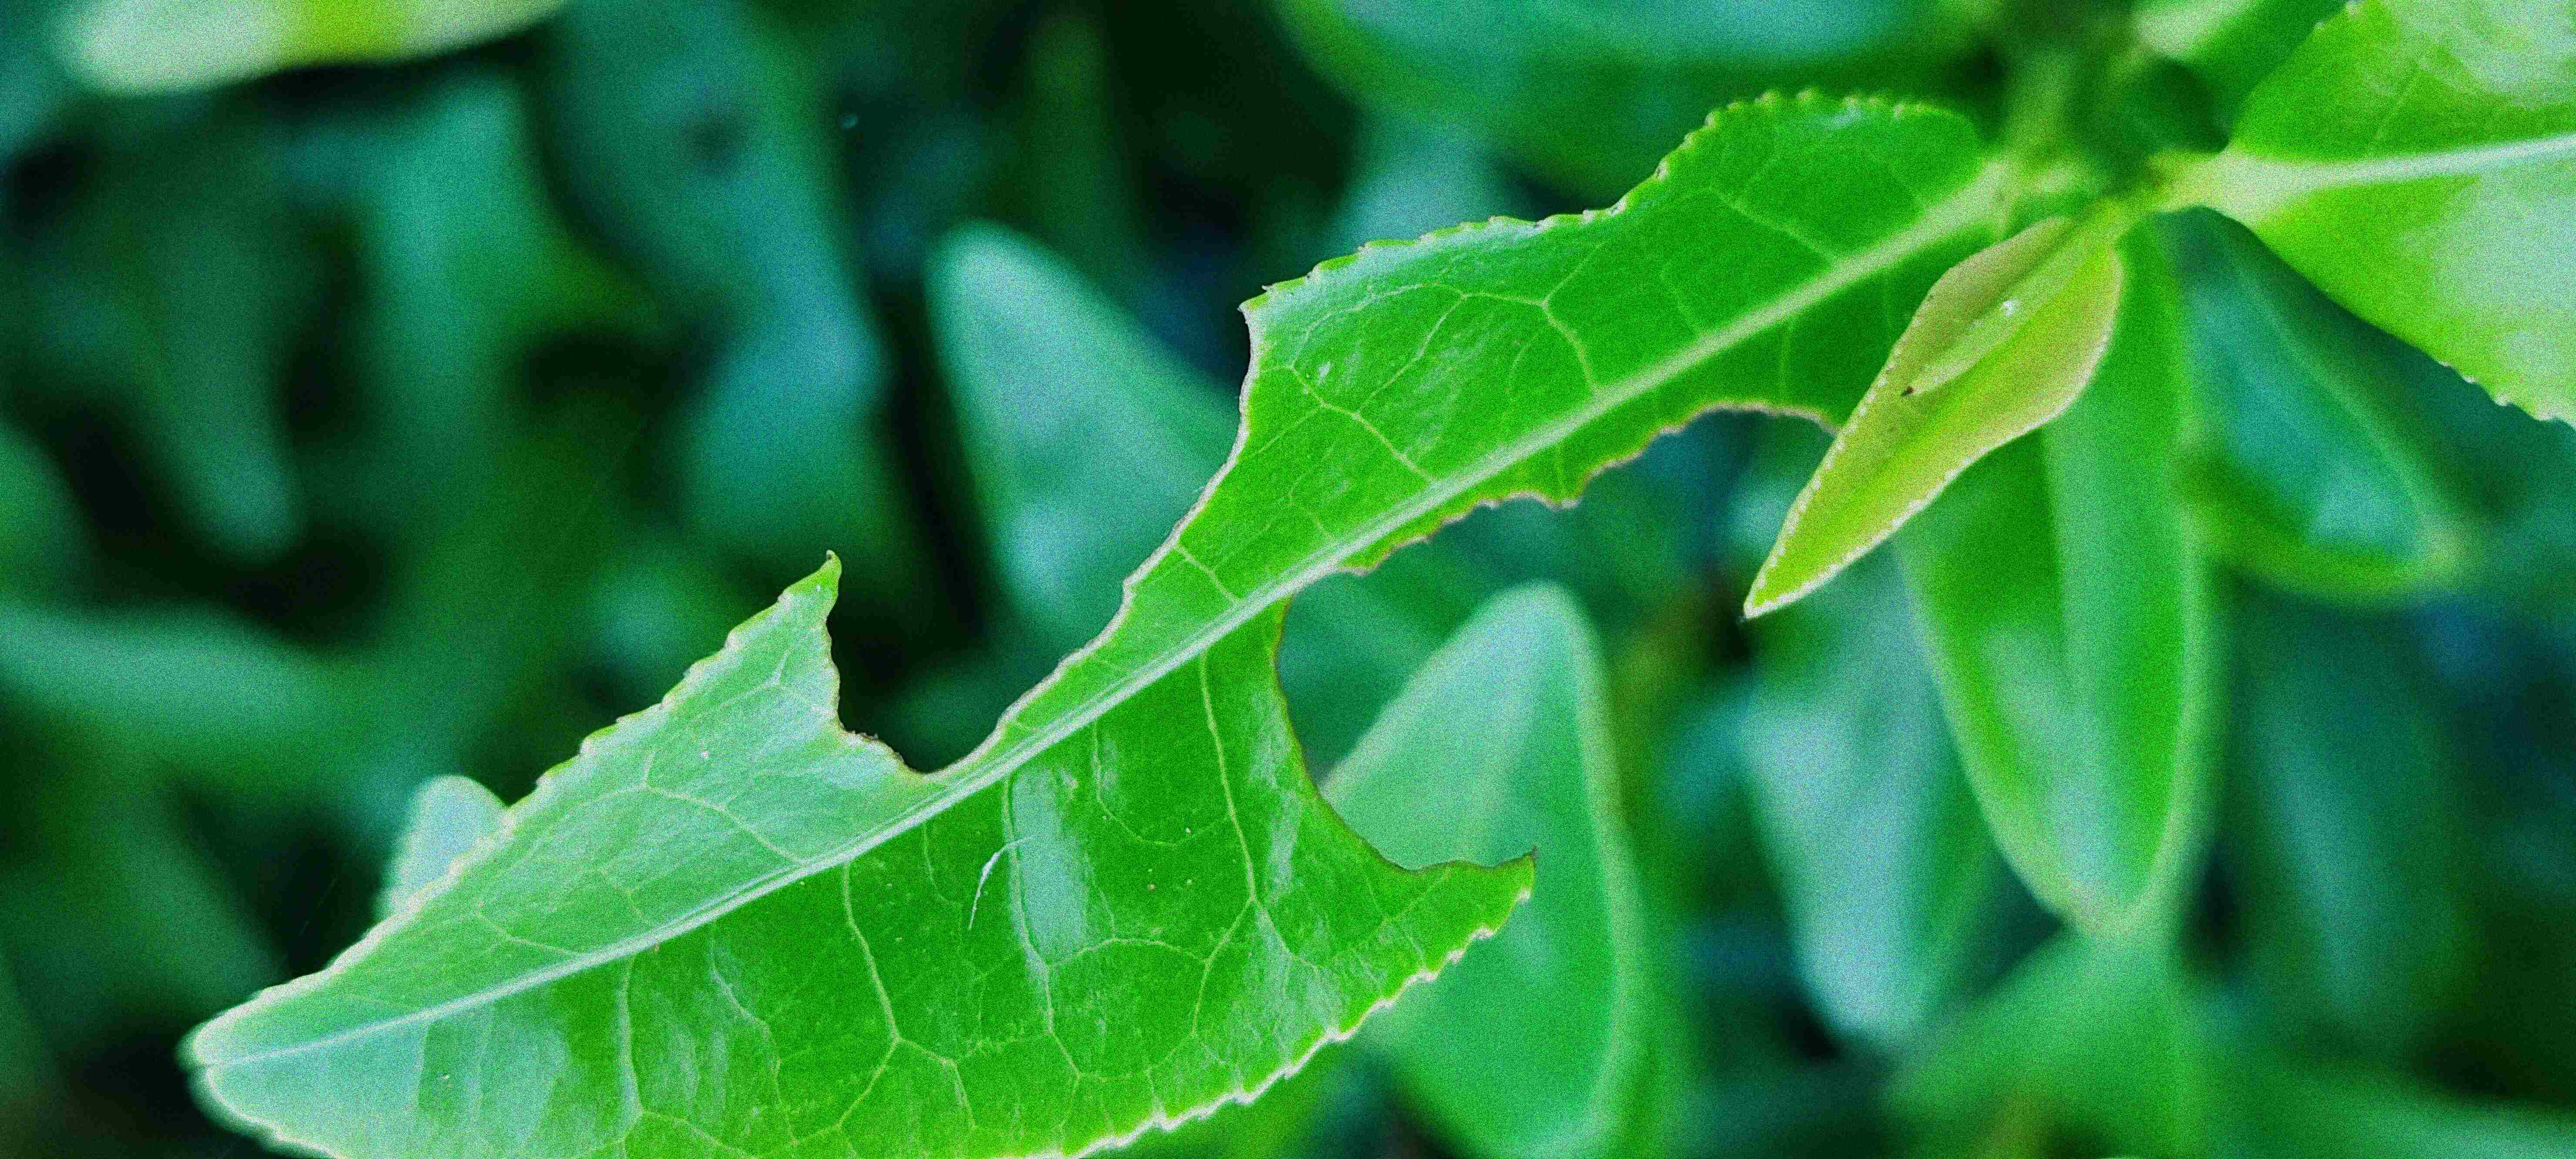chihuo_high: (186, 82, 2008, 1159)
healthy: (1738, 213, 2129, 625)
